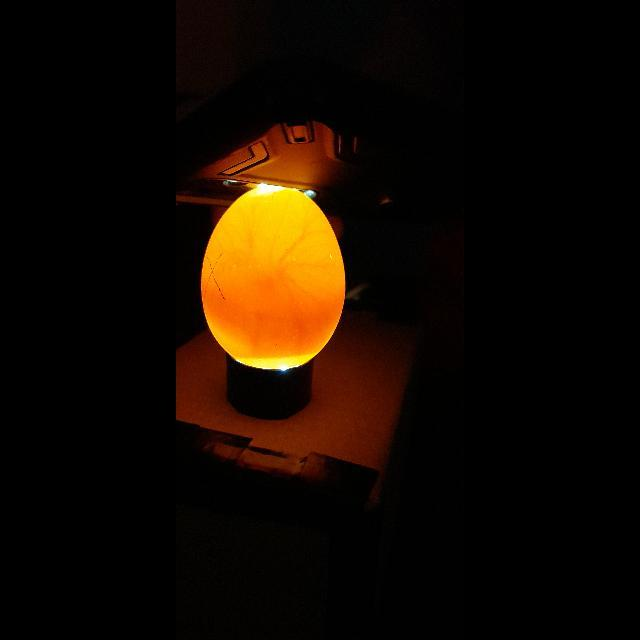Fertile: (199, 181, 349, 373)
